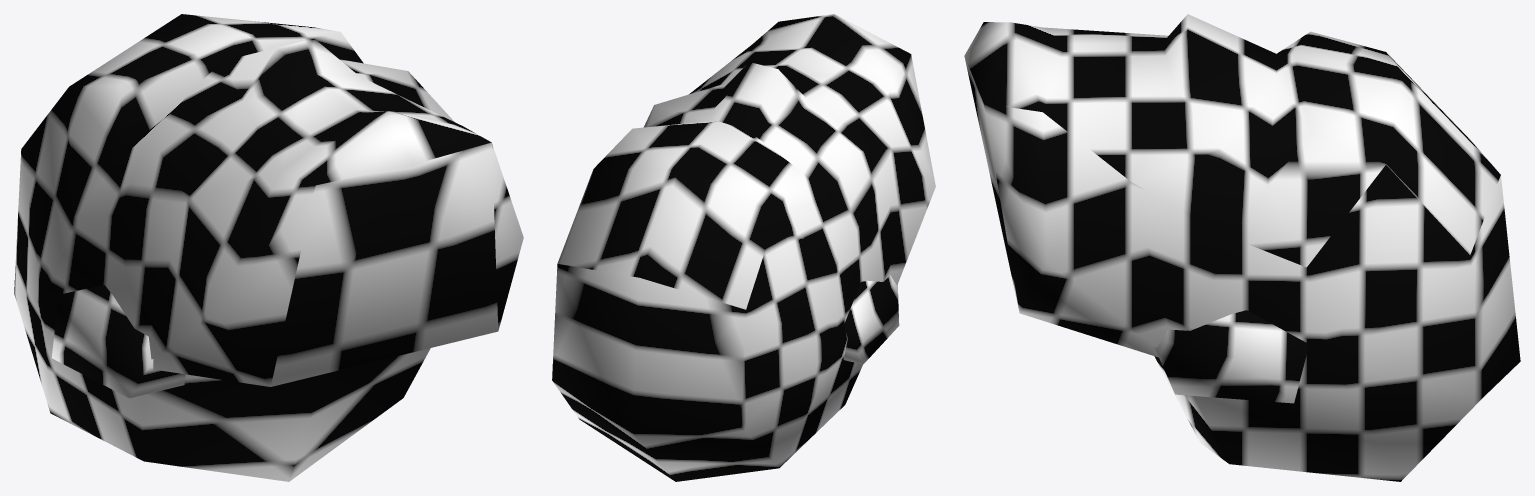
File: infaunhumafa0.dae
The picture shows the model from 3 angles, left to right: view 1: azimuth 30°, elevation 25°; view 2: azimuth 150°, elevation 25°; view 3: azimuth 270°, elevation 25°; orthographic projection. The views are drawn at different scales.
Parts seen in each view (by area): view 1: face; view 2: face; view 3: face.
Boxes of the visible parts, x1,y1,x2,y2 form: face: (14,14,523,481); face: (552,14,935,481); face: (964,14,1520,481).
Size of the model in its own units: 1.11 by 1.51 by 1.32.
Materials: 1 (1 with a texture image).
